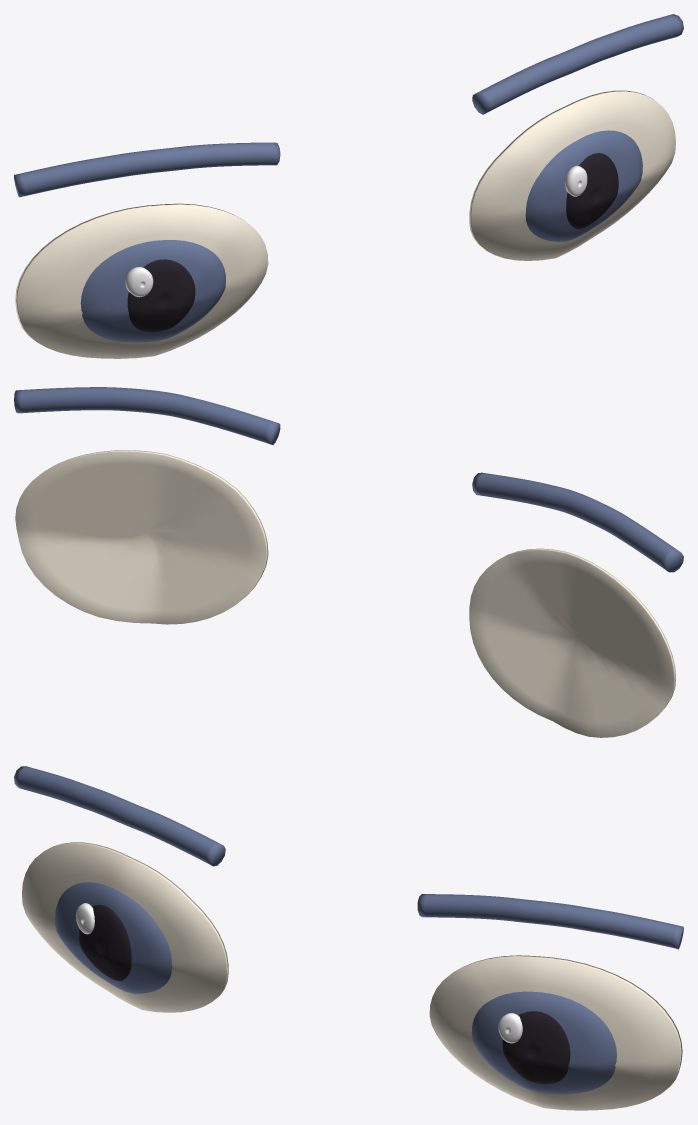
The model's file is 2HT-feminino.glb.
The picture shows the model from 3 angles, top to bottom: view 1: azimuth 30°, elevation 25°; view 2: azimuth 150°, elevation 25°; view 3: azimuth 330°, elevation 25°; orthographic projection.
Parts seen in each view (by area): view 1: sclera--1, sclera-1, iris--1, brow--1, iris-1, brow-1, pupil--1, pupil-1, highlight--1, highlight-1; view 2: sclera-1, sclera--1, brow-1, brow--1; view 3: sclera-1, sclera--1, iris-1, brow-1, iris--1, brow--1, pupil-1, pupil--1, highlight-1.
Part boxes in pixels (left/top/right/bottom): sclera--1: left=15, top=203, right=268, bottom=358; sclera-1: left=469, top=90, right=675, bottom=260; iris--1: left=80, top=240, right=225, bottom=342; brow--1: left=14, top=142, right=280, bottom=197; iris-1: left=525, top=130, right=642, bottom=241; brow-1: left=472, top=14, right=683, bottom=114; pupil--1: left=127, top=259, right=195, bottom=332; pupil-1: left=566, top=153, right=618, bottom=229; highlight--1: left=125, top=267, right=153, bottom=297; highlight-1: left=565, top=165, right=587, bottom=196; sclera-1: left=15, top=450, right=268, bottom=624; sclera--1: left=469, top=548, right=675, bottom=737; brow-1: left=14, top=387, right=280, bottom=444; brow--1: left=472, top=472, right=683, bottom=572; sclera-1: left=429, top=955, right=682, bottom=1110; sclera--1: left=22, top=842, right=228, bottom=1012; iris-1: left=471, top=991, right=616, bottom=1094; brow-1: left=417, top=894, right=683, bottom=949; iris--1: left=55, top=882, right=172, bottom=993; brow--1: left=14, top=766, right=225, bottom=866; pupil-1: left=502, top=1011, right=570, bottom=1083; pupil--1: left=79, top=904, right=131, bottom=980; highlight-1: left=498, top=1013, right=522, bottom=1043.
Bounding box in the file's own units: 0.0395 × 0.0124 × 0.00461.
